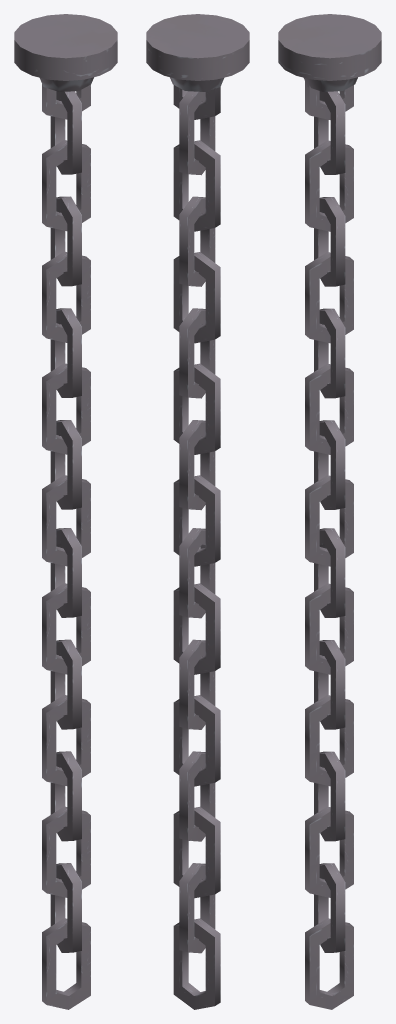
The model's file is Parts_Chain_Straight.fbx.
3 renders of one model, left to right at view 1: azimuth 90°, elevation 25°; view 2: azimuth 210°, elevation 25°; view 3: azimuth 270°, elevation 25°, orthographic.
Parts seen in each view (by area): view 1: Parts_Chain_Straight; view 2: Parts_Chain_Straight; view 3: Parts_Chain_Straight.
Boxes of the visible parts, <box> form: Parts_Chain_Straight: <box>14,14,117,1009</box>; Parts_Chain_Straight: <box>146,14,249,1009</box>; Parts_Chain_Straight: <box>278,14,381,1009</box>.
Size of the model in its own units: 11.9 by 122 by 11.72.
